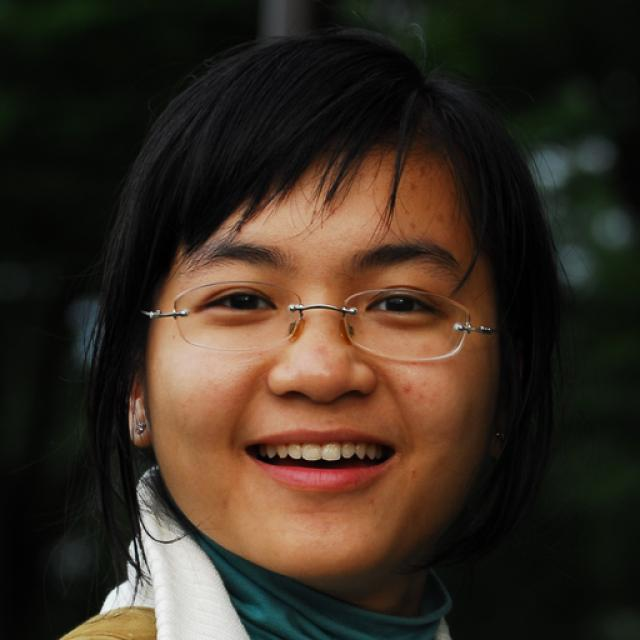Acne: (398, 378, 414, 401)
Spots: (399, 214, 420, 240), (433, 203, 450, 227), (413, 163, 437, 179), (365, 170, 382, 186)
